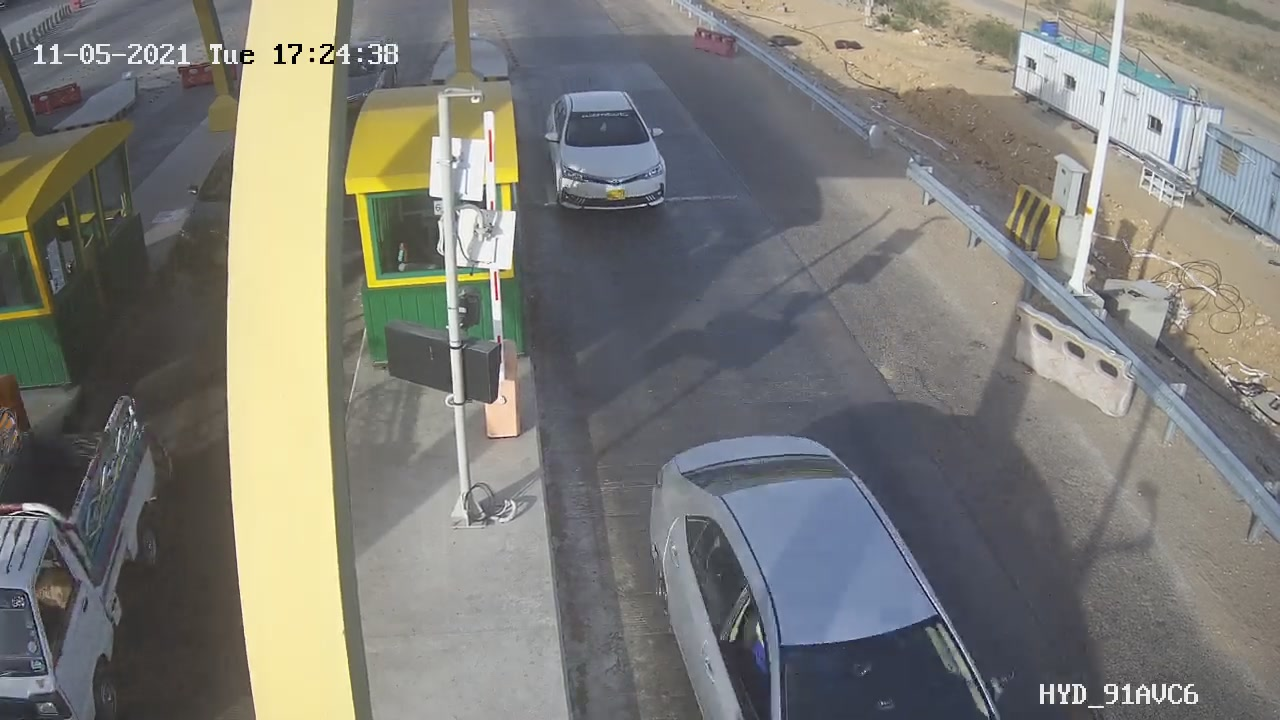F1: (529, 72, 682, 234)
